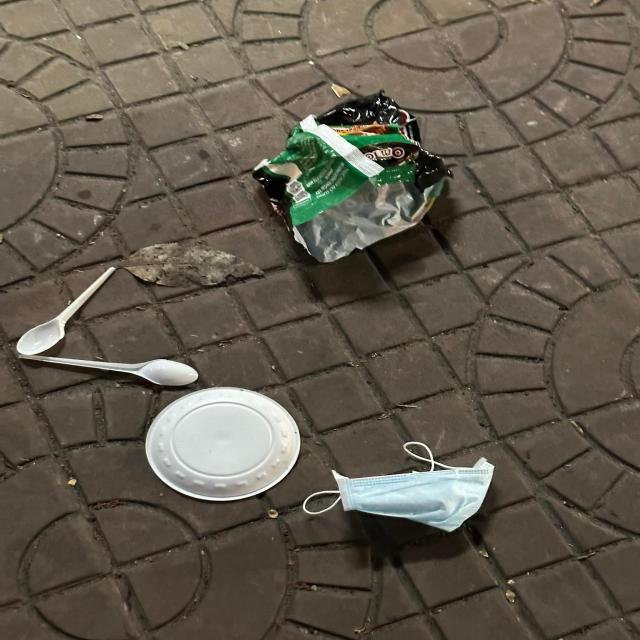mask: (302, 440, 494, 532)
plastic holder: (147, 387, 300, 501)
plastic utensil: (16, 266, 117, 356), (20, 354, 202, 387)
snack package: (254, 86, 456, 264)
